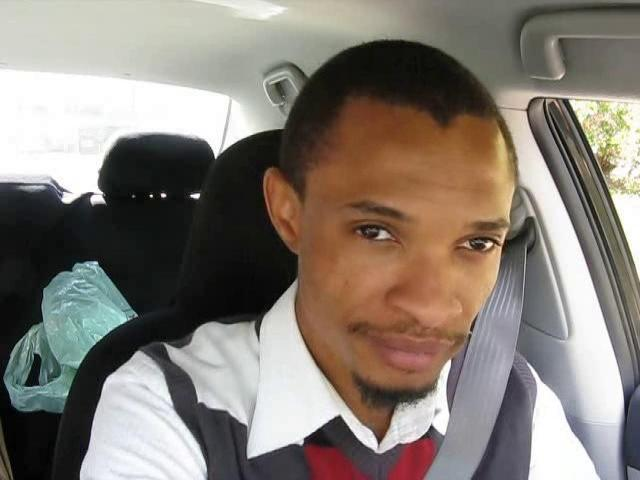eye_open: (345, 215, 400, 252), (453, 229, 505, 262)
face: (301, 177, 514, 402)
